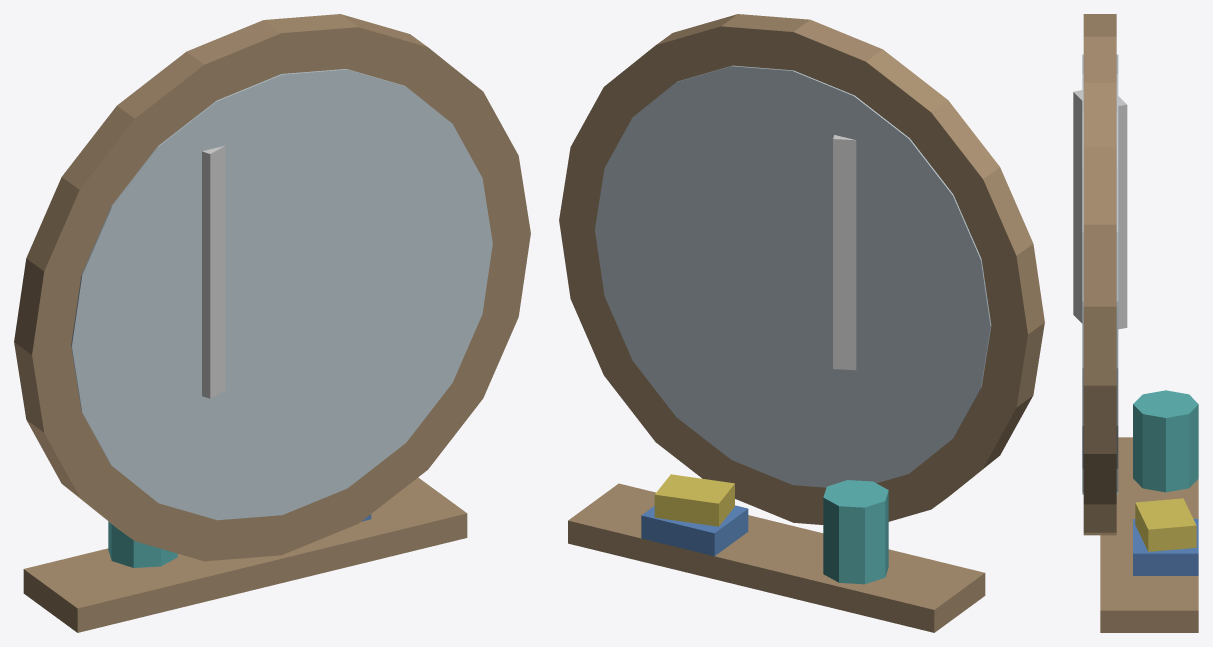
File: parede_espelho_sala.glb
3 views of the same model, side by side, from view 1: azimuth 30°, elevation 25°; view 2: azimuth 150°, elevation 25°; view 3: azimuth 270°, elevation 25° (orthographic). The views are drawn at different scales.
Parts seen in each view (by area): view 1: PAREDE_ESPELHO_SALA_v01; view 2: PAREDE_ESPELHO_SALA_v01; view 3: PAREDE_ESPELHO_SALA_v01.
Boxes of the visible parts, <box> form: PAREDE_ESPELHO_SALA_v01: <box>14,14,530,632</box>; PAREDE_ESPELHO_SALA_v01: <box>559,14,1044,632</box>; PAREDE_ESPELHO_SALA_v01: <box>1073,14,1198,632</box>.
Bounding box in the file's own units: 0.64 × 0.685 × 0.1529.
